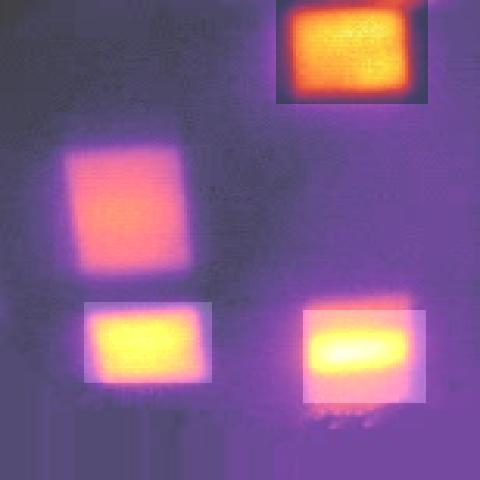fault: (54, 145, 210, 282), (276, 0, 428, 104), (303, 310, 426, 403), (84, 302, 212, 383)
